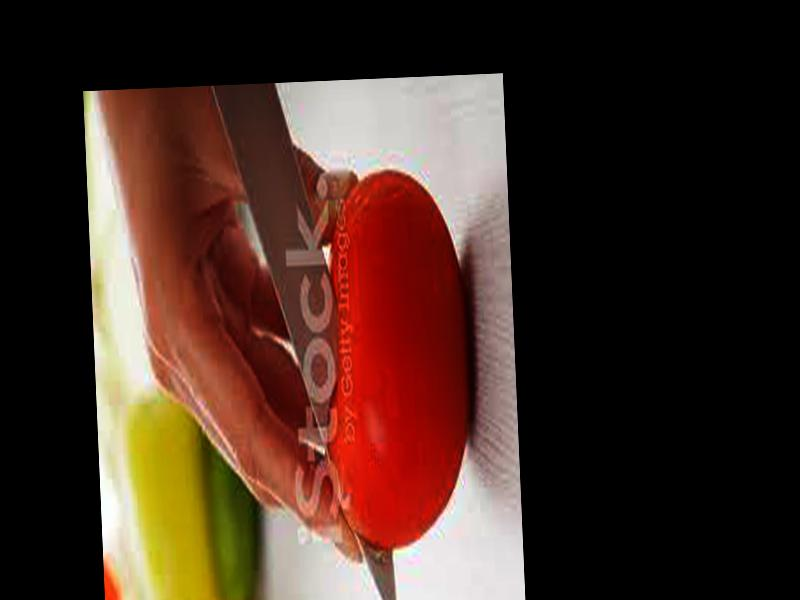Tomato: (317, 163, 480, 551)
